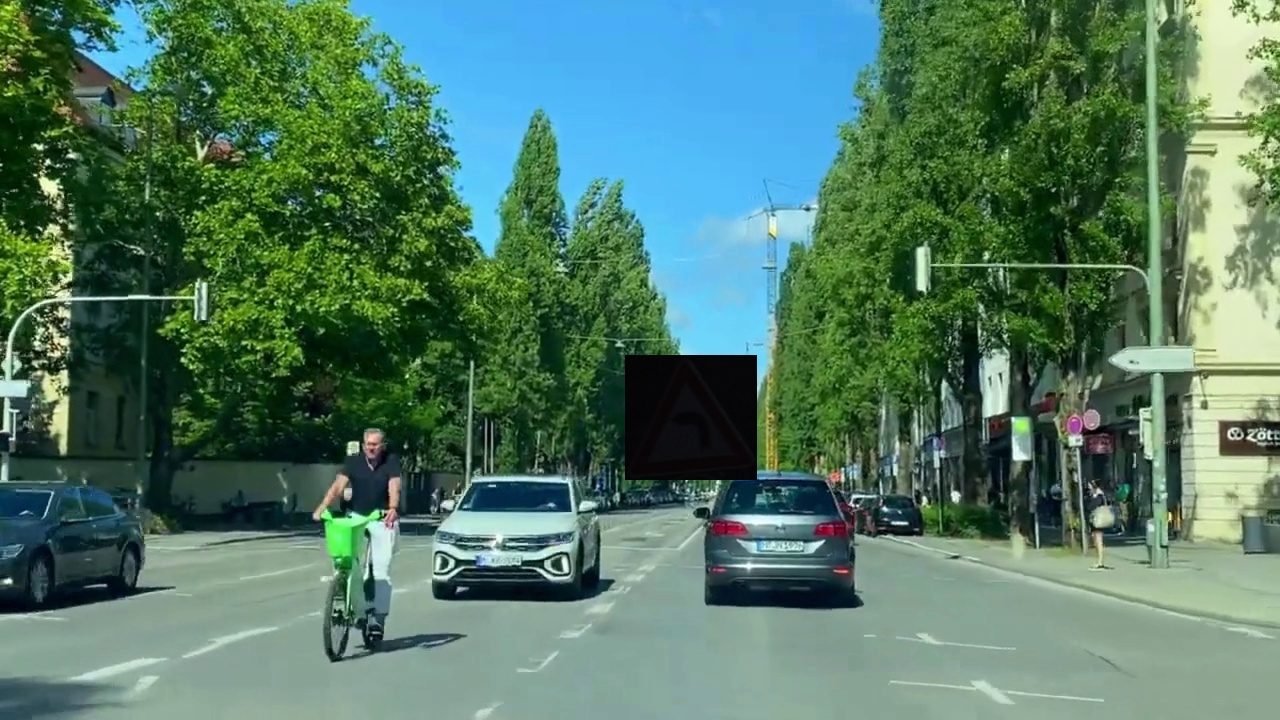Curve left: (625, 355, 757, 480)
